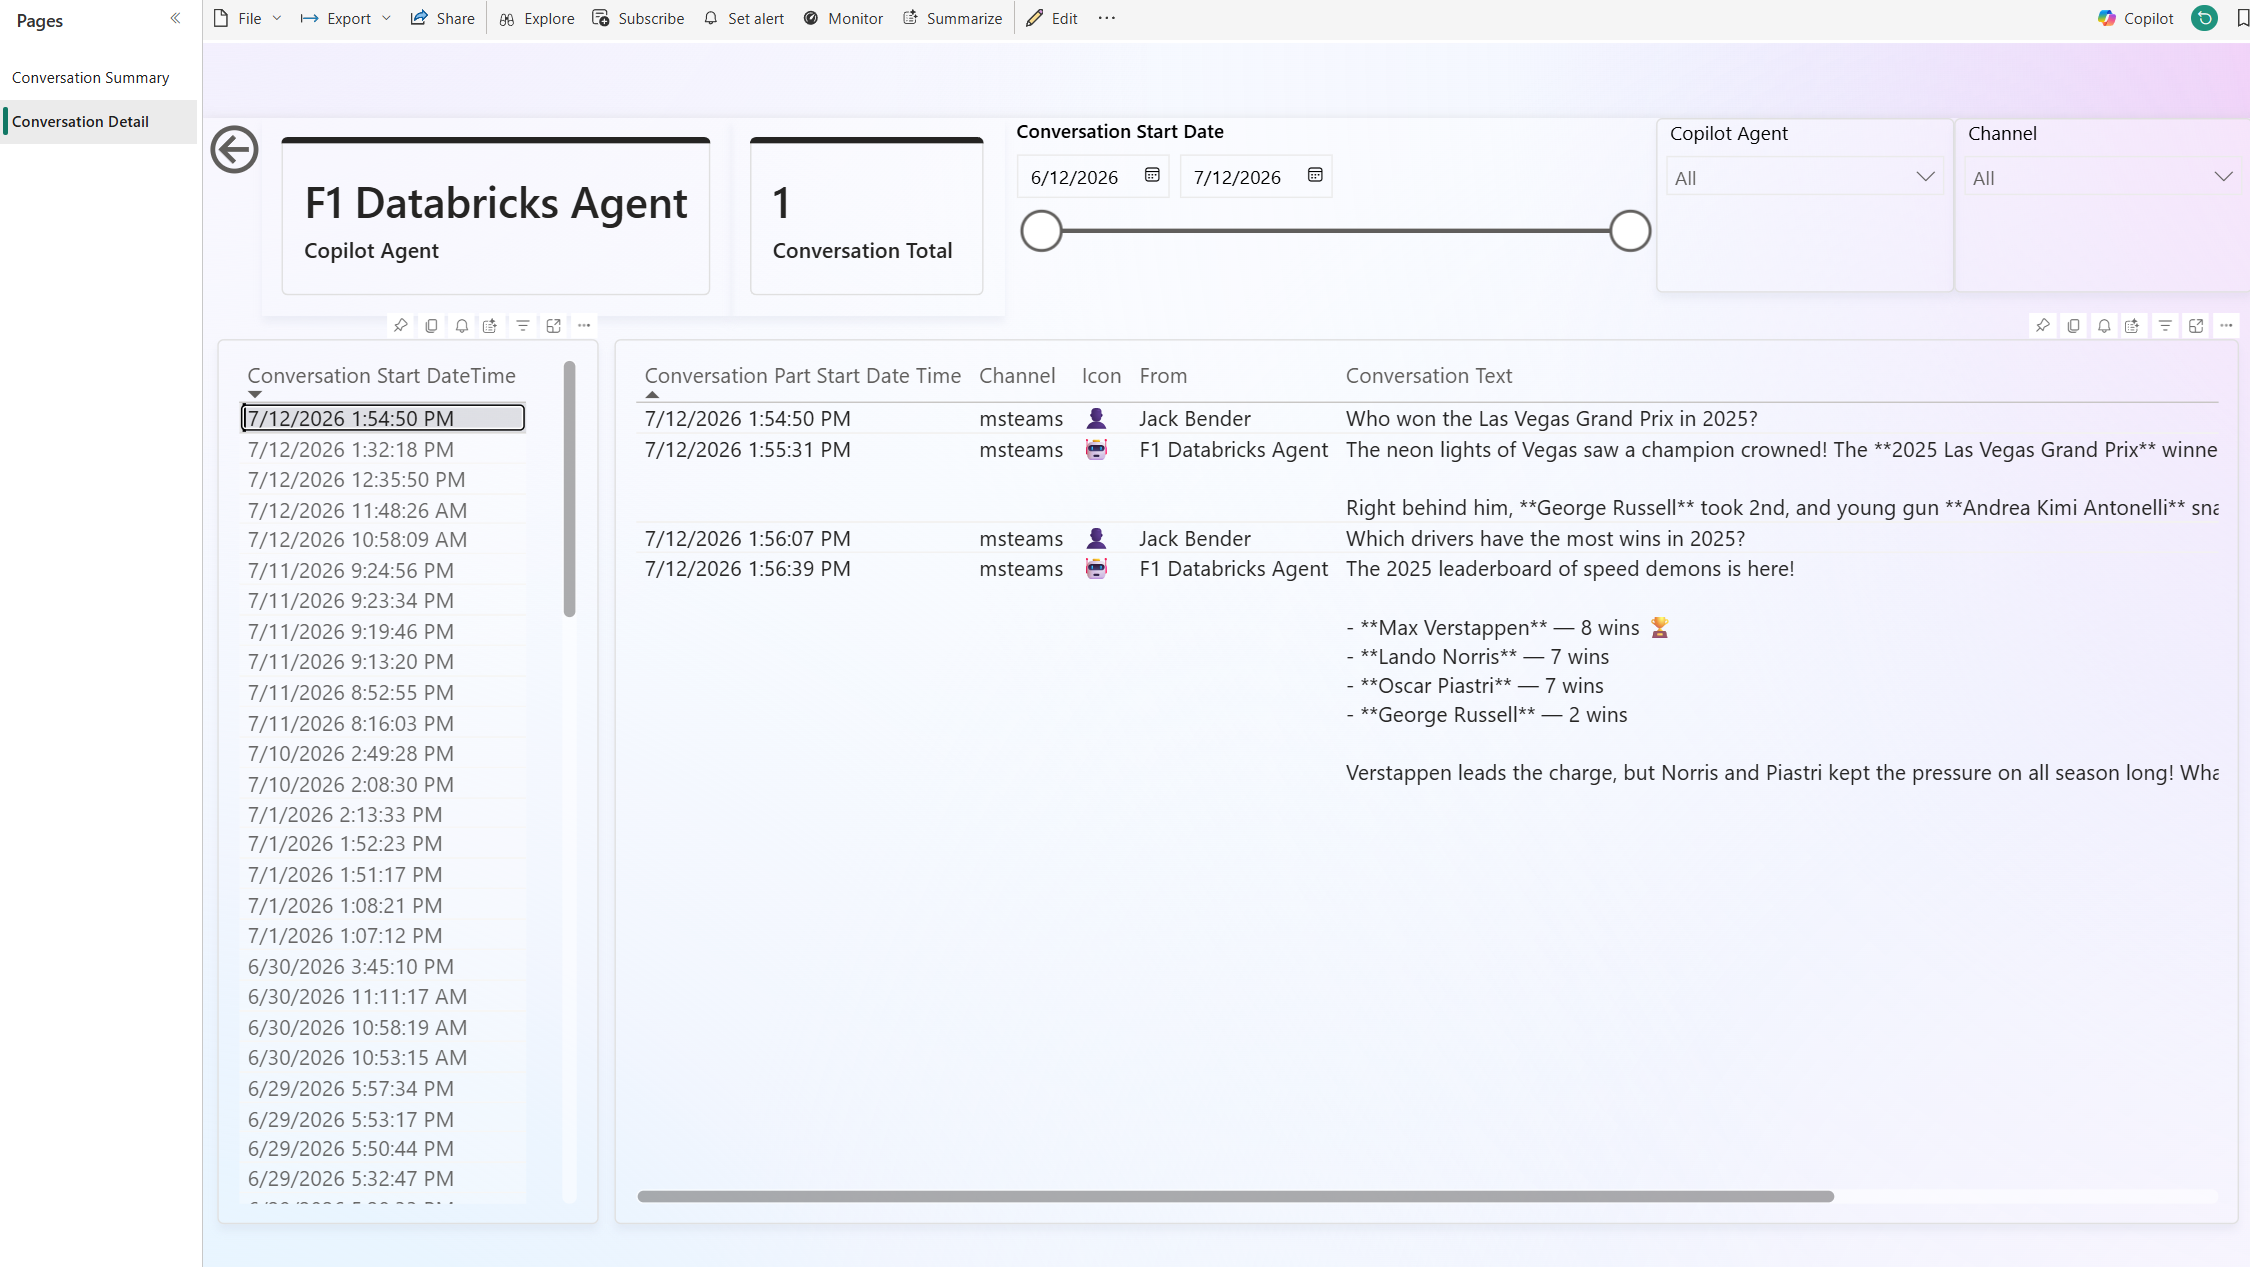

What the dashboard file says about the page in this screenshot:
{"tool":"powerbi","page":{"name":"Conversation Detail","canvas":[1280,720],"ordinal":1},"visuals":[{"type":"cardVisual","fields":{"Data":["Min(copilotconversation.Copilot Agent)"]},"box":[37.4,0,292.4,123.6],"z":0},{"type":"tableEx","fields":{"Values":["conversations.Conversation Start DateTime"]},"box":[9.1,138.2,237.9,552.8],"z":1000},{"type":"slicer","fields":{"Values":["copilotconversation.Copilot Agent"]},"box":[907.7,0,186.2,108.8],"z":2000},{"type":"cardVisual","fields":{"Data":["Count(copilotconversation.Conversation Id)"]},"box":[329.8,0,170.6,123.6],"z":3000},{"type":"tableEx","fields":{"Values":["conversations.Conversation Part Start Date Time","copilotconversation.Channel","copilotconversation.From Icon","copilotconversation.From","copilotconversation.Conversation Text"]},"box":[257.1,138.2,1014.9,552.8],"z":4000},{"type":"slicer","fields":{"Values":["copilotconversation.Channel"]},"box":[1093.8,0,186.2,108.8],"z":5000},{"type":"slicer","fields":{"Values":["copilotconversation.Conversation Start Date"]},"box":[500.4,0,407.3,108.8],"z":6000},{"type":"actionButton","box":[0,0,100,40],"z":7000}]}

Visuals, with their boxes on the page's 1280x720 design canvas (x1, y1, x2, y2). These are canvas units, not pixel positions in the 2250x1267 screenshot, which may show the page scaled, cropped or inside an application window:
cardVisual - Min(copilotconversation.Copilot Agent): bbox(37, 0, 330, 124)
tableEx - conversations.Conversation Start DateTime: bbox(9, 138, 247, 691)
slicer - copilotconversation.Copilot Agent: bbox(908, 0, 1094, 109)
cardVisual - Count(copilotconversation.Conversation Id): bbox(330, 0, 500, 124)
tableEx - conversations.Conversation Part Start Date Time x copilotconversation.Channel: bbox(257, 138, 1272, 691)
slicer - copilotconversation.Channel: bbox(1094, 0, 1280, 109)
slicer - copilotconversation.Conversation Start Date: bbox(500, 0, 908, 109)
actionButton: bbox(0, 0, 100, 40)
